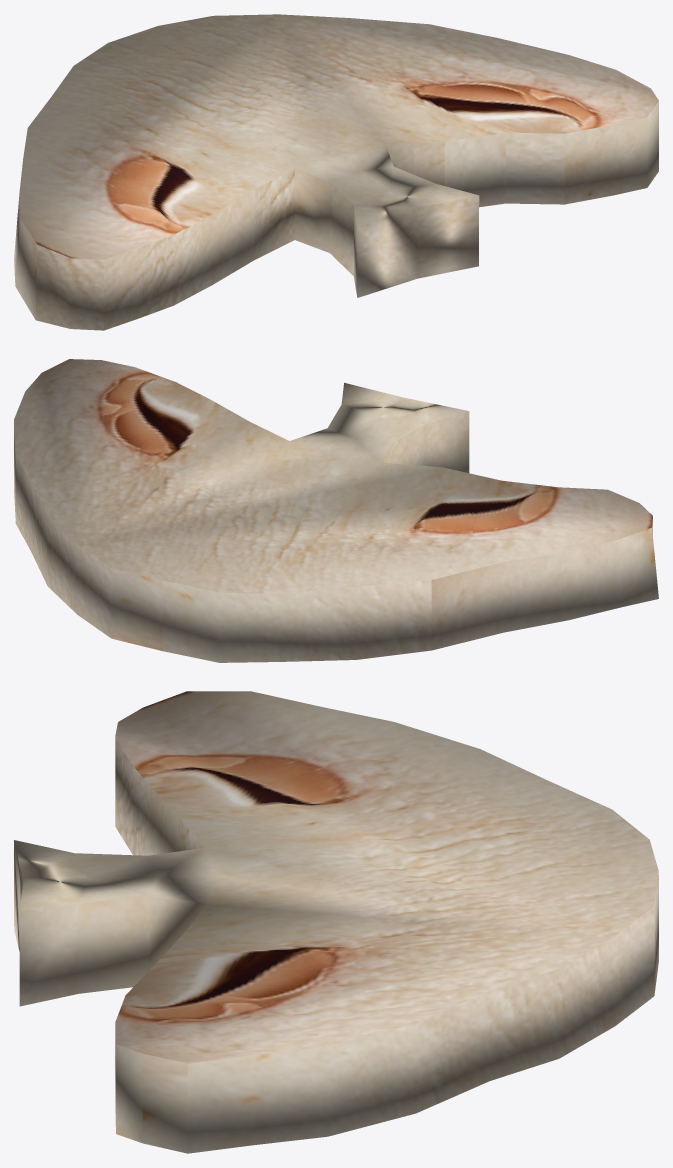
Rendered from mushroom.fbx.
The picture shows the model from 3 angles, top to bottom: view 1: azimuth 30°, elevation 25°; view 2: azimuth 150°, elevation 25°; view 3: azimuth 270°, elevation 25°; orthographic projection. The views are drawn at different scales.
Visible parts, largest first — view 1: mushroom; view 2: mushroom; view 3: mushroom.
Part boxes in pixels (x1,y1,x2,y2): mushroom: (14,14,658,330); mushroom: (14,359,658,662); mushroom: (14,691,658,1153).
Size of the model in its own units: 6 by 0.8013 by 4.27.
Materials: 1 (1 with a texture image).
